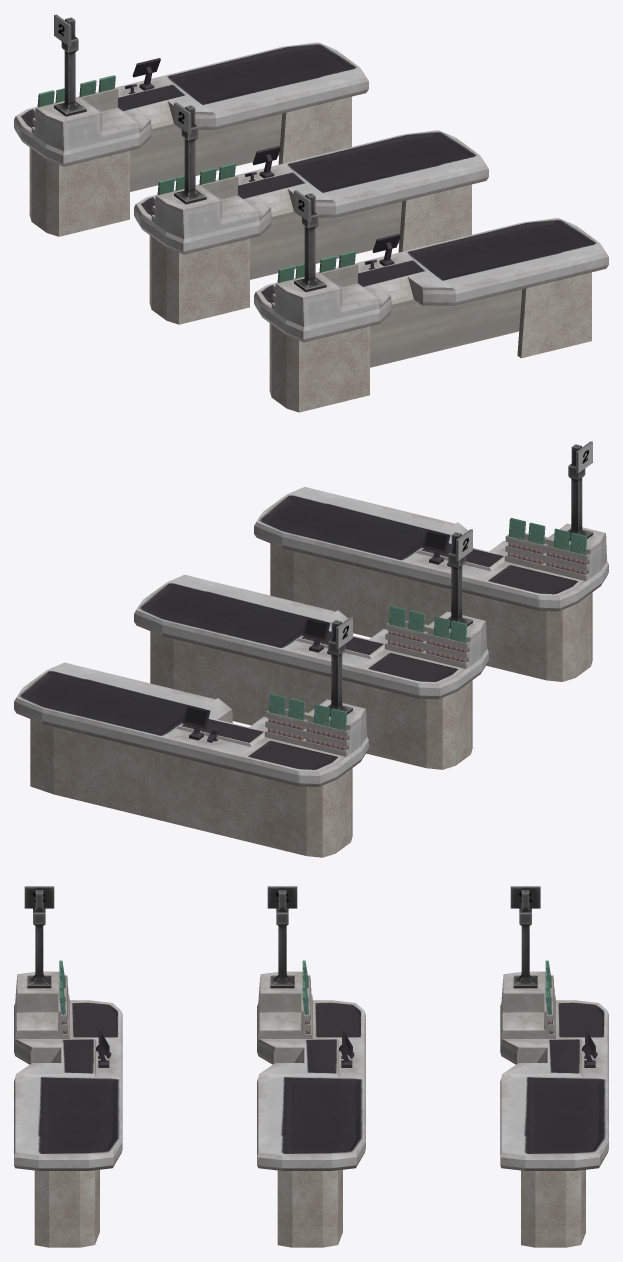
File: checkouts_EMBED.fbx
3 views of the same model, one above another, from view 1: azimuth 30°, elevation 25°; view 2: azimuth 150°, elevation 25°; view 3: azimuth 270°, elevation 25° (orthographic).
Visible parts, largest first — view 1: thinCounter.003, thinCounter.002, thinCounter.001, cash_sign.001, cash_sign.002, cash_sign.003, magazine.002, magazine.003, magazine.001, pinPad_Screen.001, pinPad_Screen.003, pinPad_Screen.002; view 2: thinCounter.002, thinCounter.001, thinCounter.003, cash_sign.003, cash_sign.002, cash_sign.001, magazine.003, magazine.001, magazine.002, pinPad_Screen.002, gum.001, gum.002 (+3 smaller); view 3: thinCounter.003, thinCounter.001, thinCounter.002, cash_sign.001, cash_sign.002, cash_sign.003.
Boxes of the visible parts, bbox=[...] form: thinCounter.003: bbox=[254, 218, 608, 412]; thinCounter.002: bbox=[14, 42, 368, 236]; thinCounter.001: bbox=[134, 130, 488, 324]; cash_sign.001: bbox=[174, 102, 206, 204]; cash_sign.002: bbox=[54, 14, 86, 116]; cash_sign.003: bbox=[294, 190, 326, 292]; magazine.002: bbox=[37, 75, 115, 107]; magazine.003: bbox=[277, 251, 355, 282]; magazine.001: bbox=[157, 163, 235, 195]; pinPad_Screen.001: bbox=[245, 145, 280, 181]; pinPad_Screen.003: bbox=[364, 233, 400, 269]; pinPad_Screen.002: bbox=[125, 58, 160, 93]; thinCounter.002: bbox=[14, 662, 368, 857]; thinCounter.001: bbox=[134, 574, 488, 769]; thinCounter.003: bbox=[254, 487, 608, 681]; cash_sign.003: bbox=[567, 441, 593, 540]; cash_sign.002: bbox=[327, 617, 352, 716]; cash_sign.001: bbox=[447, 529, 472, 628]; magazine.003: bbox=[508, 518, 587, 555]; magazine.001: bbox=[388, 605, 467, 642]; magazine.002: bbox=[268, 693, 347, 730]; pinPad_Screen.002: bbox=[182, 705, 219, 742]; gum.001: bbox=[388, 630, 467, 662]; gum.002: bbox=[268, 718, 347, 750]; thinCounter.003: bbox=[14, 971, 122, 1247]; thinCounter.001: bbox=[257, 971, 365, 1247]; thinCounter.002: bbox=[500, 971, 608, 1247]; cash_sign.001: bbox=[267, 886, 297, 988]; cash_sign.002: bbox=[510, 886, 540, 988]; cash_sign.003: bbox=[24, 886, 54, 988].
Bounding box in the file's own units: 1678 × 1080 × 2692.
Materials: 5 (5 with a texture image).
